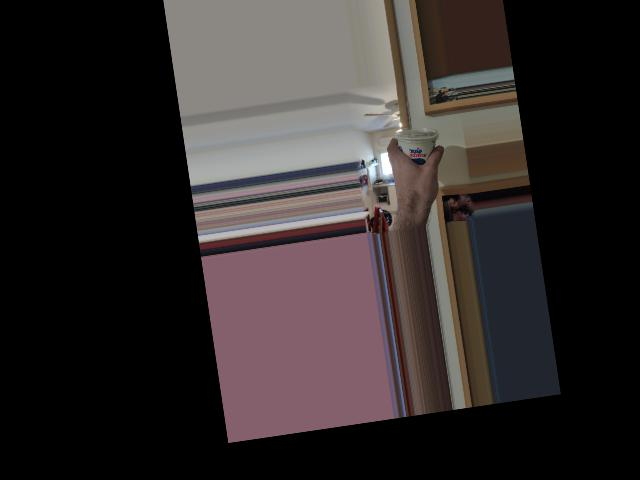cotage: (389, 123, 442, 178)
